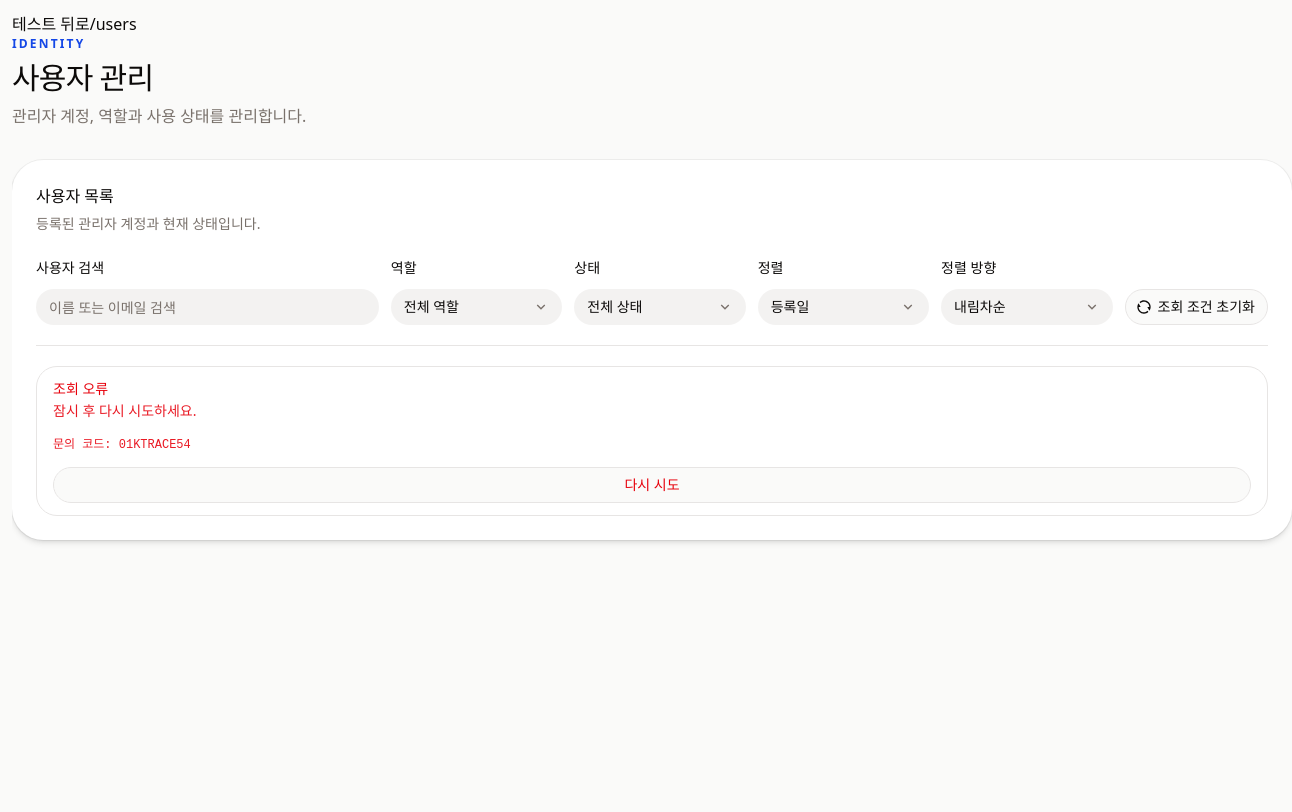
사용자 조회 결과 › 일반 오류는 서버 메시지와 trace ID를 표시하고 재시도한다
Expected: the message shows "잠시 후 다시 시도하세요.", [53, 401, 196, 420]
Expected: the message shows "문의 코드: 01KTRACE54", [53, 438, 191, 452]
Click the button "다시 시도": x=652, y=485 [53, 467, 1251, 503]
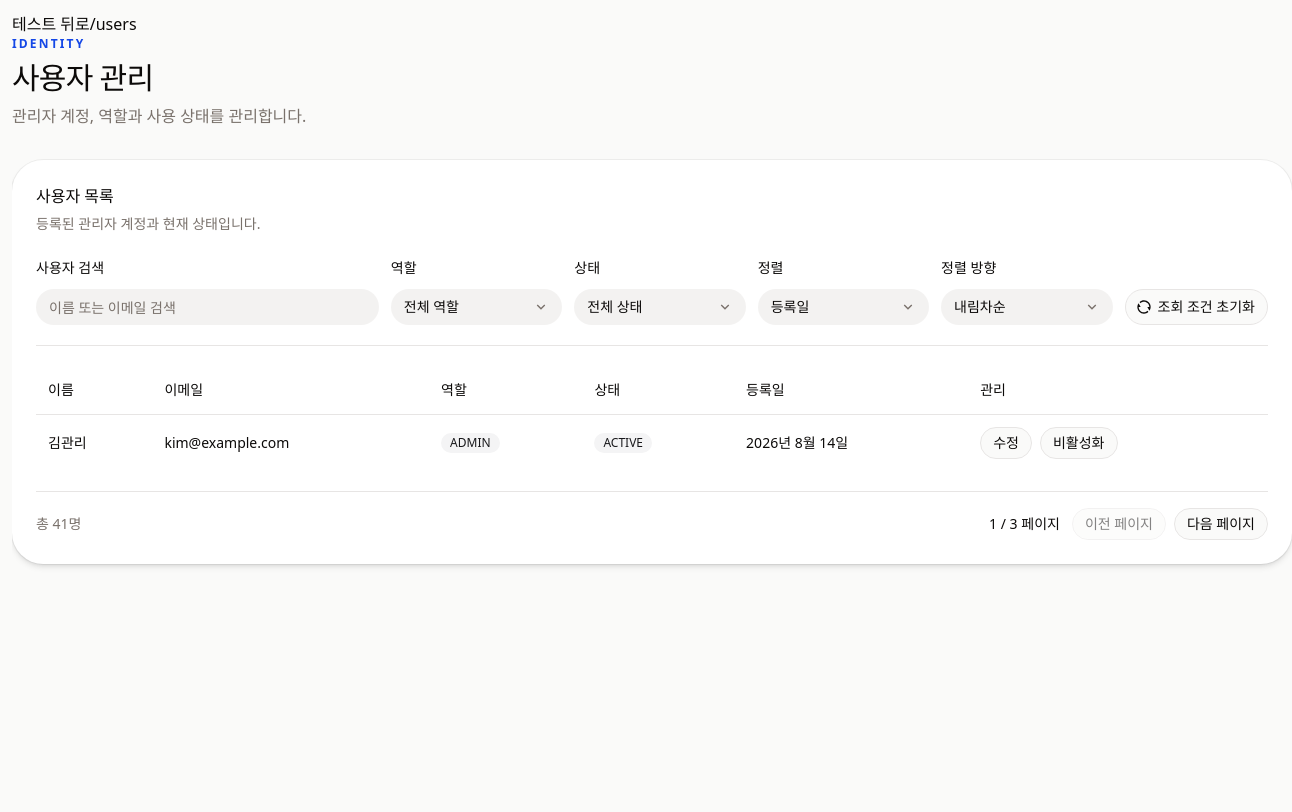
Expected: the text "kim@example.com" is shown 2 times
